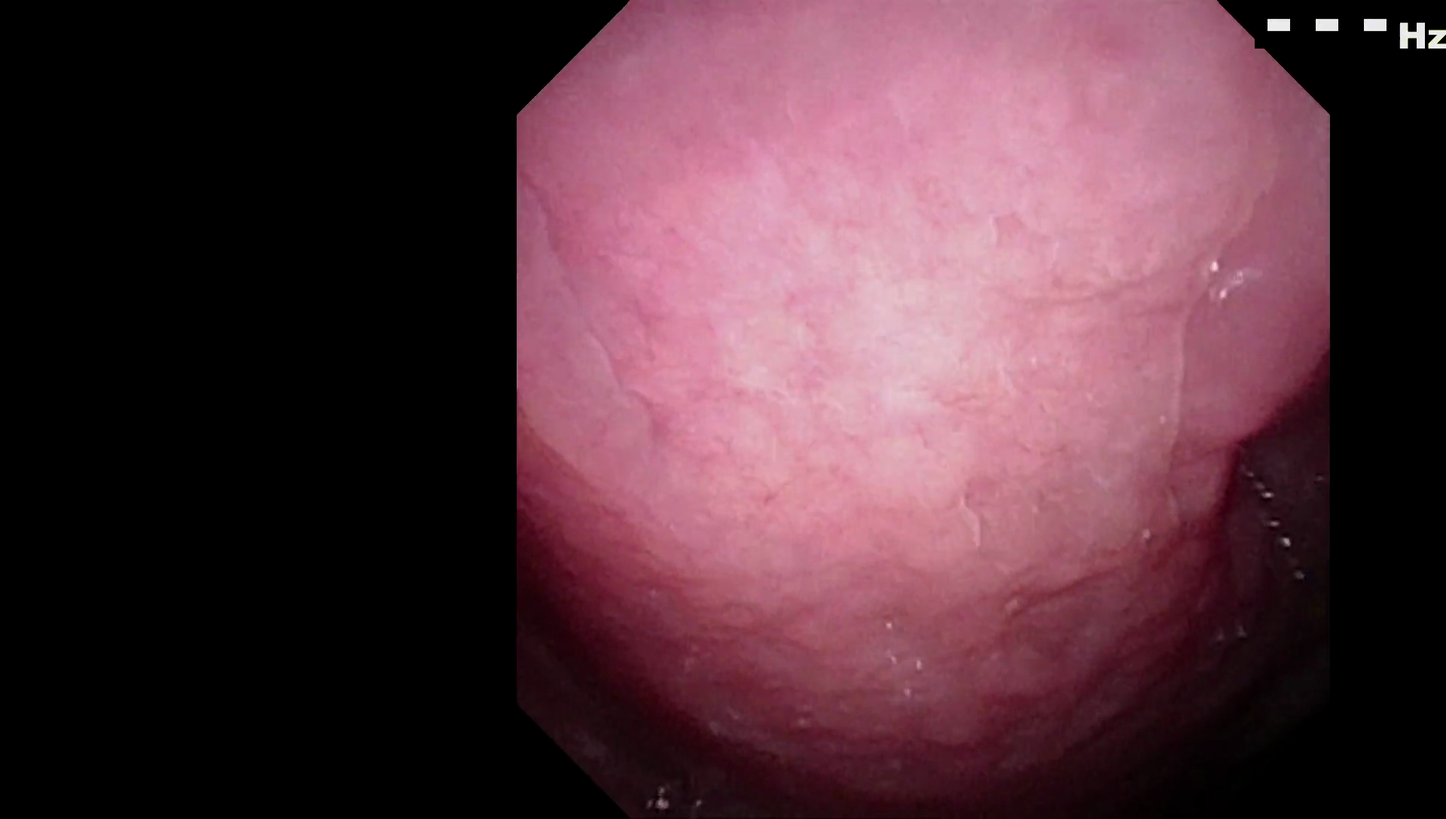close_wall: (584, 59, 1260, 657)
next: (1025, 561, 1302, 806), (1200, 343, 1323, 680), (530, 611, 749, 759)
